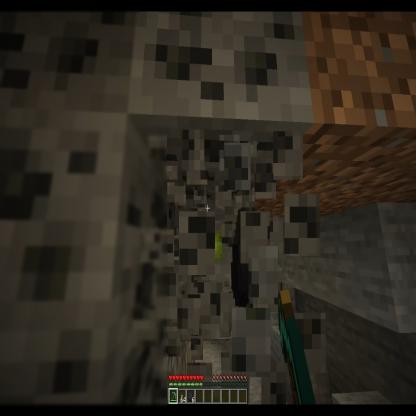coal ore: (0, 115, 167, 416), (121, 2, 314, 203), (0, 0, 139, 120)
